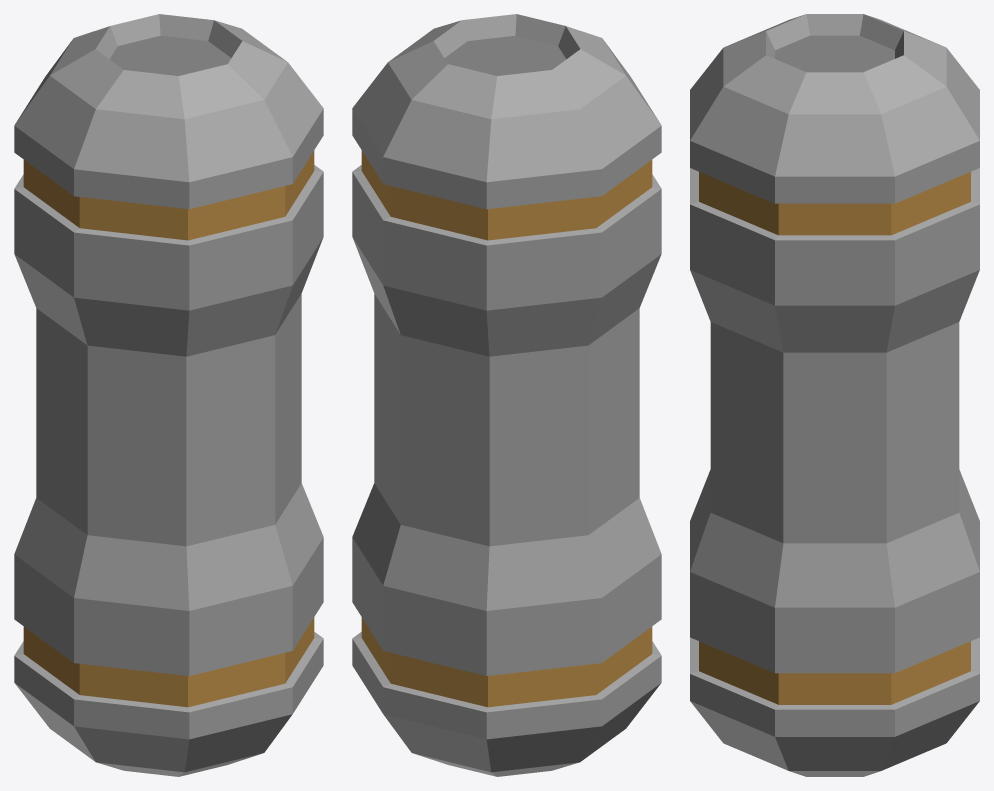
The model's file is Props_Vessel.gltf.
3 renders of one model, left to right at view 1: azimuth 30°, elevation 25°; view 2: azimuth 150°, elevation 25°; view 3: azimuth 270°, elevation 25°, orthographic.
Visible parts, largest first — view 1: Props_Vessel; view 2: Props_Vessel; view 3: Props_Vessel.
Part boxes in pixels (left/top/right/bottom): Props_Vessel: left=14, top=14, right=323, bottom=776; Props_Vessel: left=352, top=14, right=661, bottom=776; Props_Vessel: left=690, top=14, right=979, bottom=776.
Bounding box in the file's own units: 0.2873 × 0.7705 × 0.2873.
